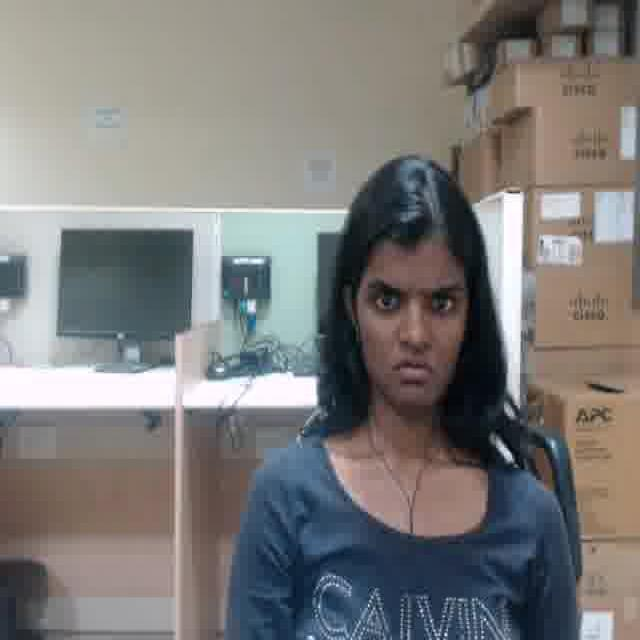Boredom: (359, 233, 464, 408)
